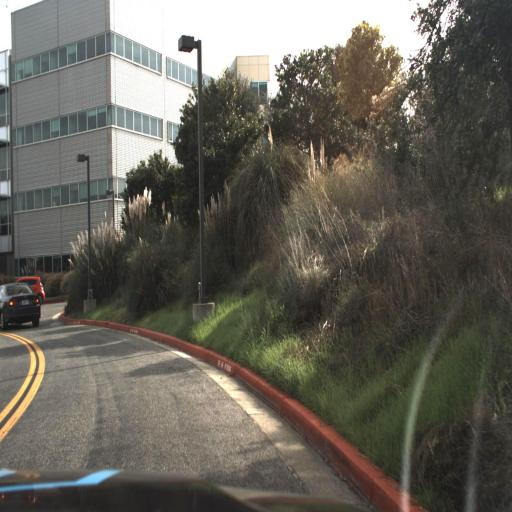car: (0, 279, 46, 330), (29, 272, 51, 308)
